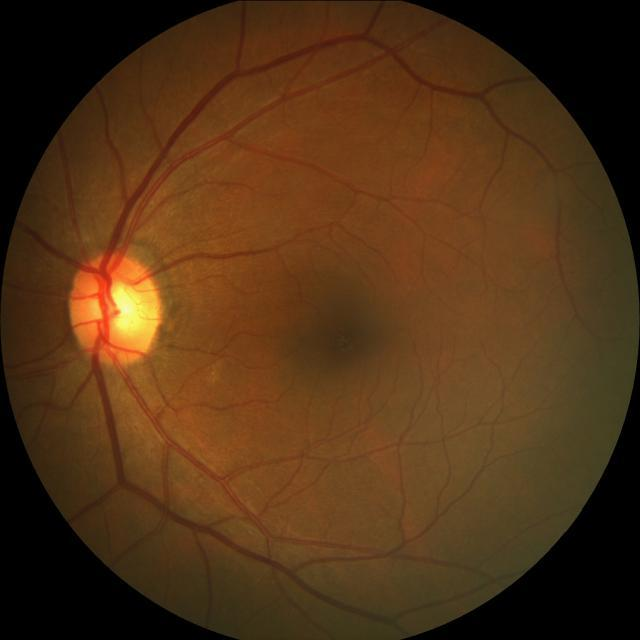OC: (93, 280, 142, 332)
OD: (67, 250, 160, 366)
